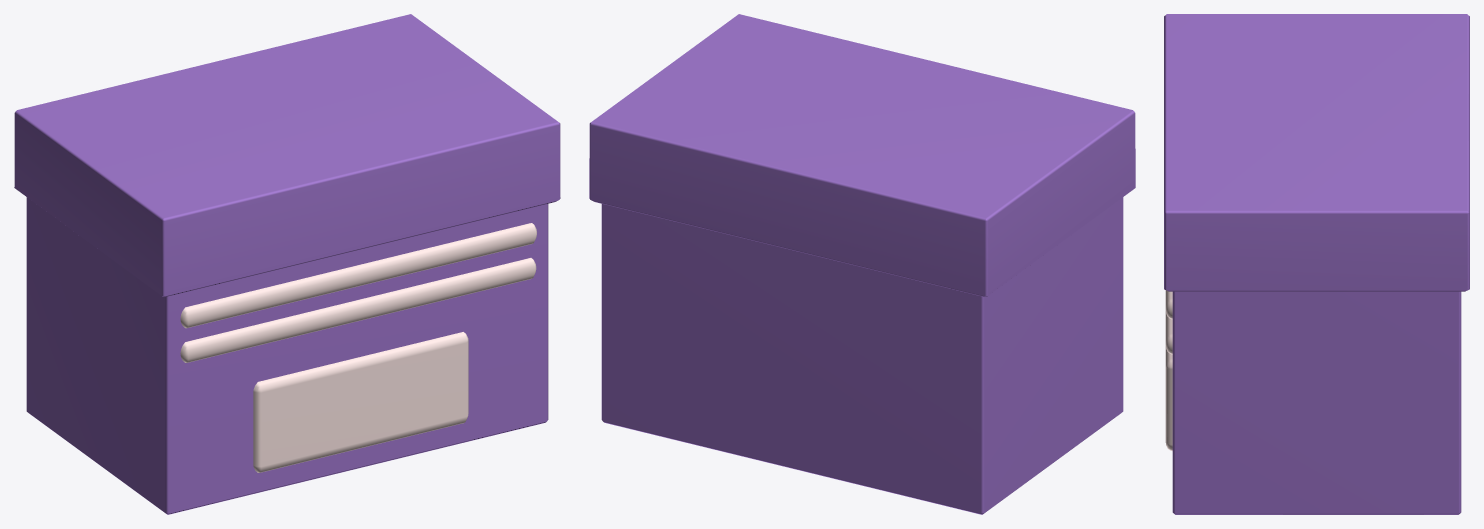
The model's file is Public_6_Box_9.glb.
3 views of the same model, side by side, from view 1: azimuth 30°, elevation 25°; view 2: azimuth 150°, elevation 25°; view 3: azimuth 270°, elevation 25° (orthographic). The views are drawn at different scales.
Parts seen in each view (by area): view 1: Public_6_Box_9; view 2: Public_6_Box_9; view 3: Public_6_Box_9.
Part boxes in pixels (x1,y1,x2,y2): Public_6_Box_9: [14, 14, 560, 514]; Public_6_Box_9: [589, 14, 1135, 514]; Public_6_Box_9: [1164, 14, 1469, 514].
Bounding box in the file's own units: 2.04 × 1.48 × 1.33.
1 material, 1 textured.
